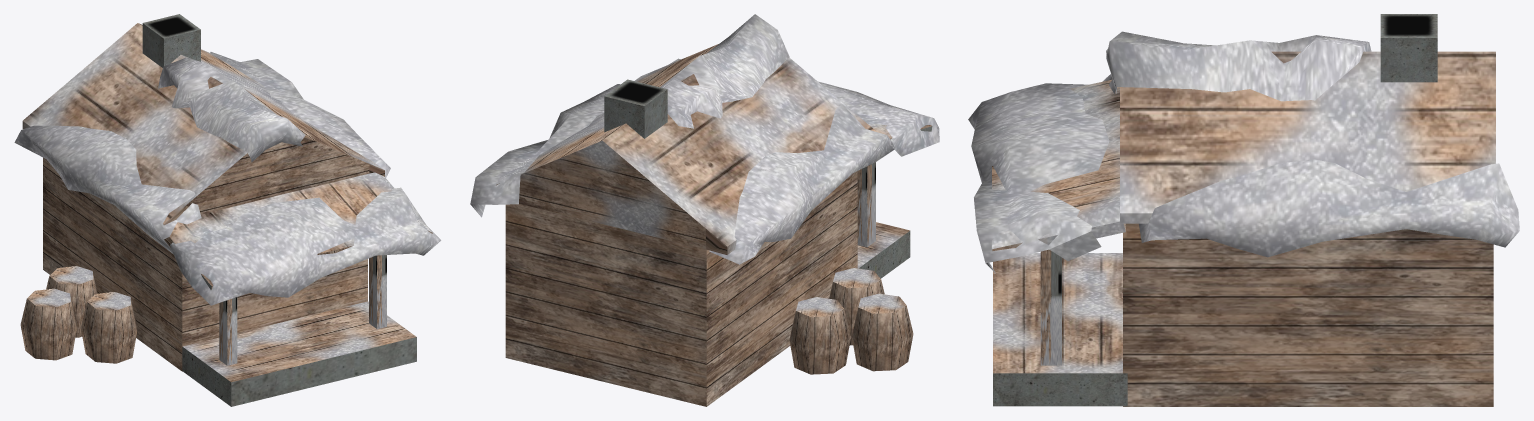
The model's file is HouseSmall.FBX.
3 views of the same model, side by side, from view 1: azimuth 30°, elevation 25°; view 2: azimuth 150°, elevation 25°; view 3: azimuth 270°, elevation 25° (orthographic). The views are drawn at different scales.
Visible parts, largest first — view 1: Box002, Box001, Plane001, Box004, Plane002, Plane004, Box003, Cylinder002, Cylinder003, Plane003, Box007, Cylinder001 (+2 smaller); view 2: Box001, Box002, Plane002, Plane004, Plane003, Cylinder001, Cylinder003, Plane001, Box007, Box004, Cylinder002, Box005; view 3: Box001, Box002, Plane003, Plane001, Box004, Plane004, Box003, Box007, Box006.
Part boxes in pixels (x1,y1,x2,y2): Box002: (22, 23, 384, 225); Box001: (43, 157, 367, 371); Plane001: (170, 187, 441, 305); Box004: (182, 301, 416, 406); Plane002: (14, 125, 201, 254); Plane004: (158, 57, 305, 162); Box003: (164, 172, 432, 289); Cylinder002: (81, 292, 136, 363); Cylinder003: (20, 288, 76, 360); Plane003: (210, 52, 390, 177); Box007: (142, 14, 200, 67); Cylinder001: (46, 266, 97, 337); Box001: (505, 171, 857, 406); Box002: (496, 44, 876, 254); Plane002: (709, 104, 894, 264); Plane004: (660, 14, 789, 128); Plane003: (470, 84, 620, 217); Cylinder001: (789, 297, 850, 374); Cylinder003: (851, 293, 913, 371); Plane001: (669, 58, 939, 156); Box007: (604, 79, 667, 138); Box004: (857, 222, 910, 278); Cylinder002: (829, 268, 884, 345); Box005: (857, 162, 875, 247); Box001: (1123, 223, 1493, 406); Box002: (1120, 51, 1495, 223); Plane003: (1139, 159, 1519, 257); Plane001: (968, 83, 1109, 273); Box004: (993, 253, 1127, 406); Plane004: (1106, 31, 1371, 101); Box003: (992, 79, 1125, 250); Box007: (1380, 14, 1437, 82); Box006: (1040, 249, 1061, 365).
Bounding box in the file's own units: 86.36 × 96.77 × 62.59.
